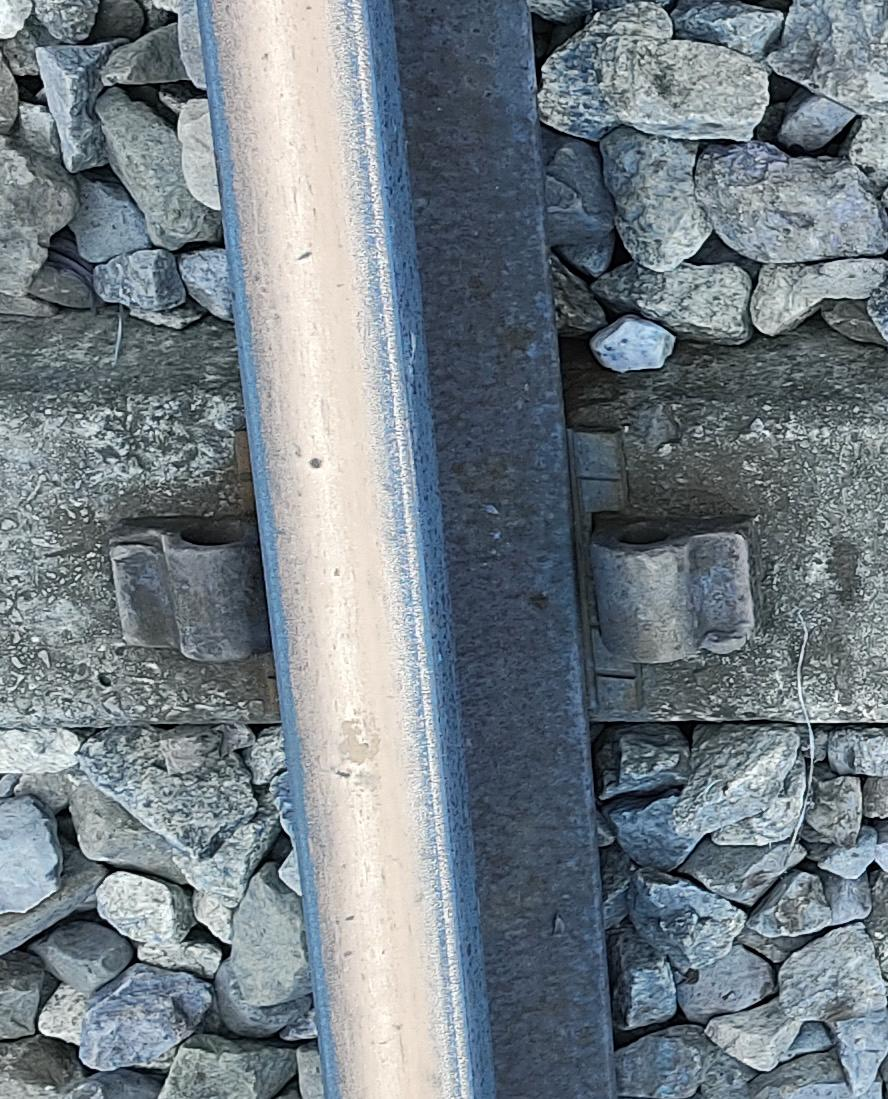loss: (100, 499, 274, 694), (578, 520, 774, 661)
